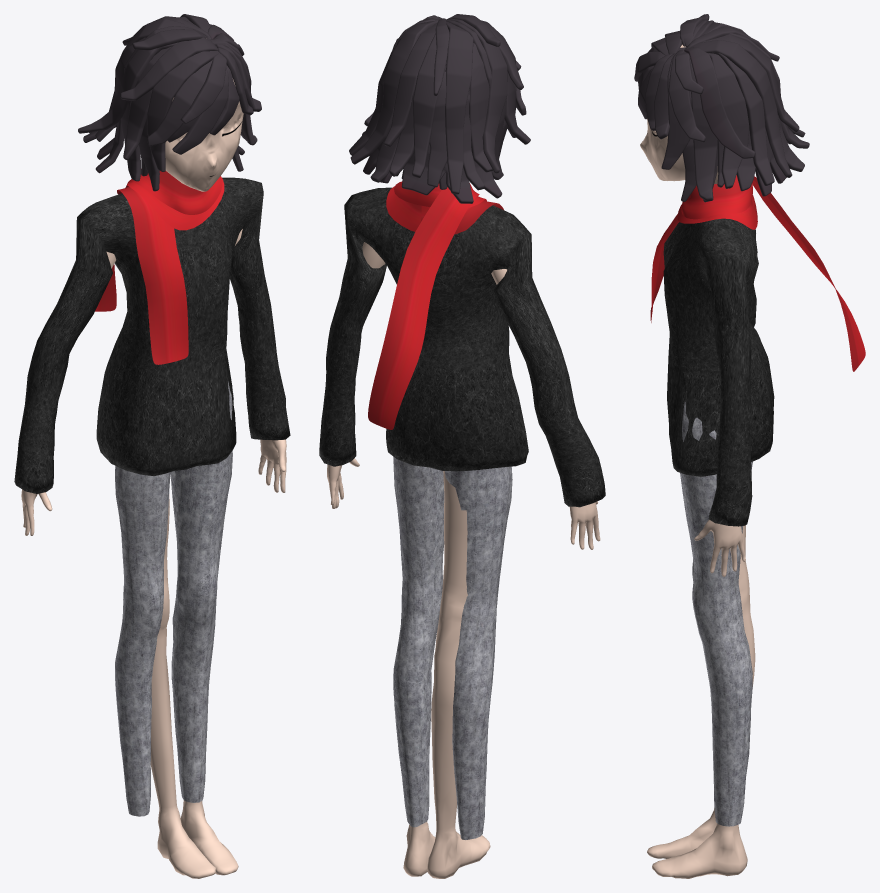
Rendered from shelf_girl.glb.
The picture shows the model from 3 angles, left to right: view 1: azimuth 30°, elevation 25°; view 2: azimuth 150°, elevation 25°; view 3: azimuth 270°, elevation 25°; orthographic projection.
Parts seen in each view (by area): view 1: ShelfGirl; view 2: ShelfGirl; view 3: ShelfGirl.
Boxes of the visible parts, left/top/right/bottom form: ShelfGirl: left=14, top=14, right=290, bottom=878; ShelfGirl: left=319, top=14, right=605, bottom=878; ShelfGirl: left=634, top=14, right=865, bottom=878.
Size of the model in its own units: 0.3421 by 1 by 0.251.
Materials: 7 (7 with a texture image).
